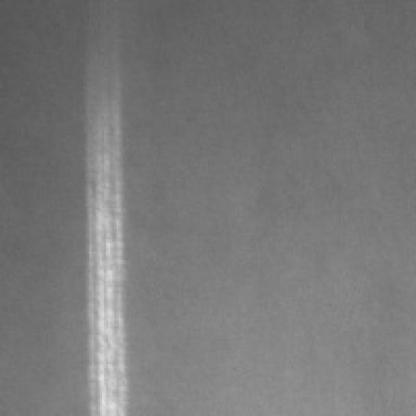scratches: (85, 75, 137, 410)
